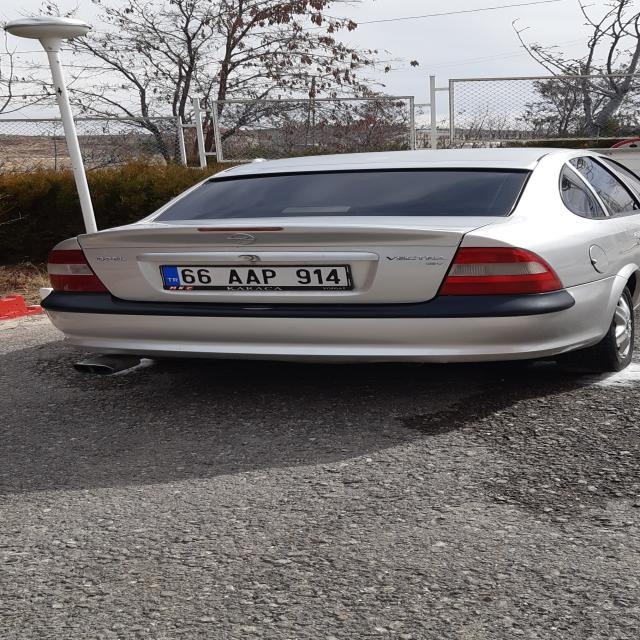license_plate: (160, 266, 350, 286)
